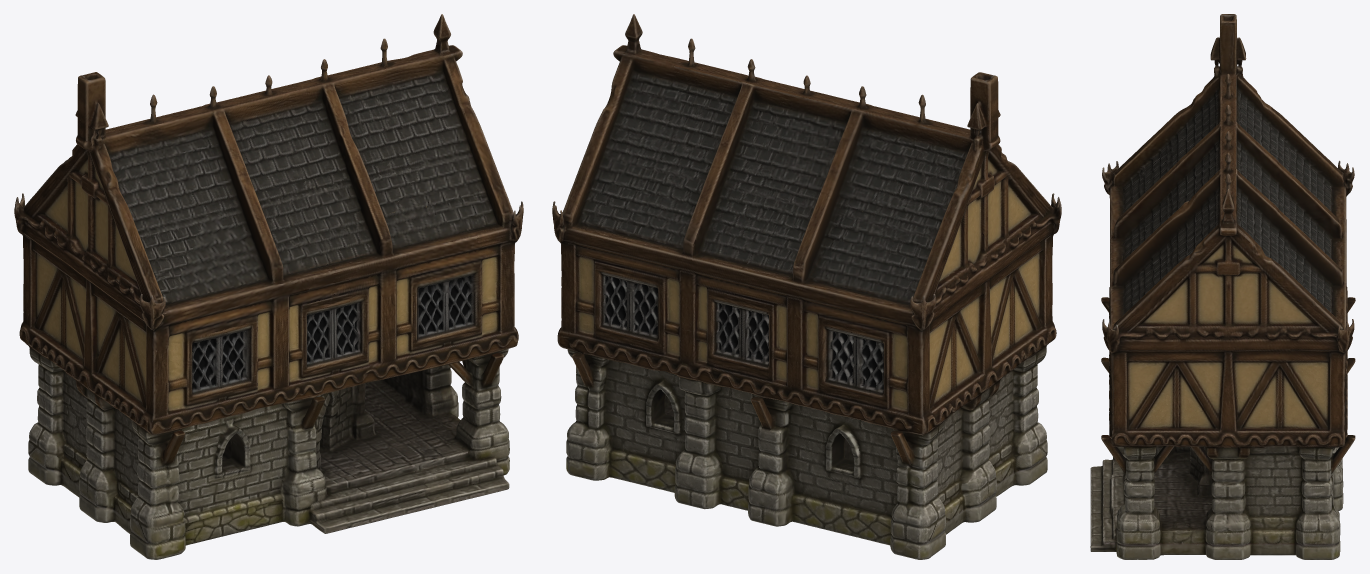
Rendered from wirtshaus.glb.
3 renders of one model, left to right at view 1: azimuth 30°, elevation 25°; view 2: azimuth 150°, elevation 25°; view 3: azimuth 270°, elevation 25°, orthographic. The views are drawn at different scales.
Bounding box in the file's own units: 1.74 × 1.9 × 1.18.
Materials: 1 (1 with a texture image).
